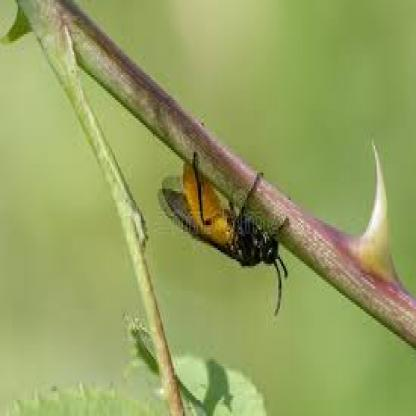sawfly: (154, 148, 294, 317)
